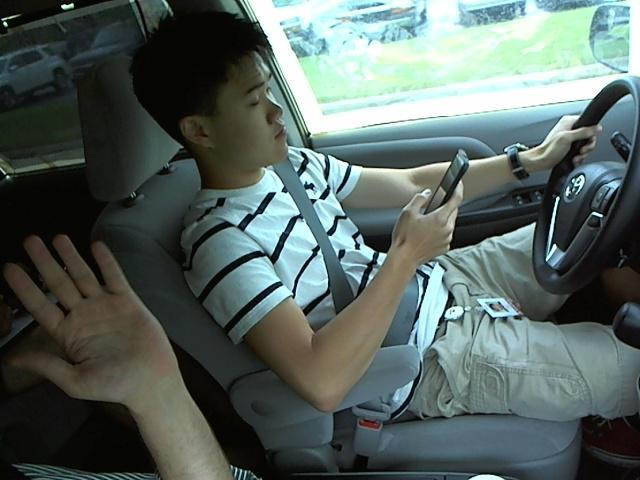PhoneUse: (420, 144, 470, 241)
